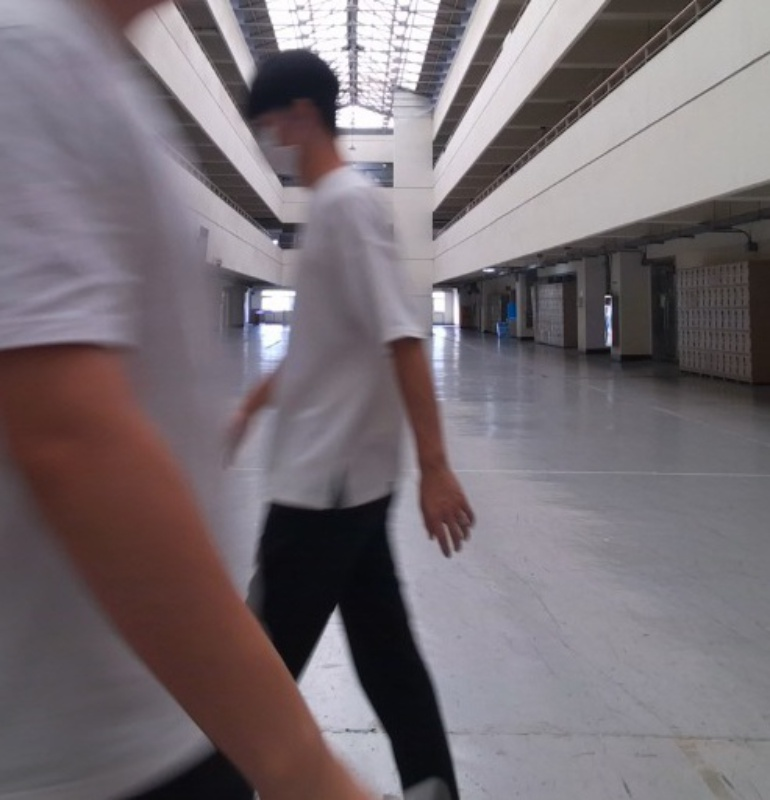person: (231, 47, 477, 800)
